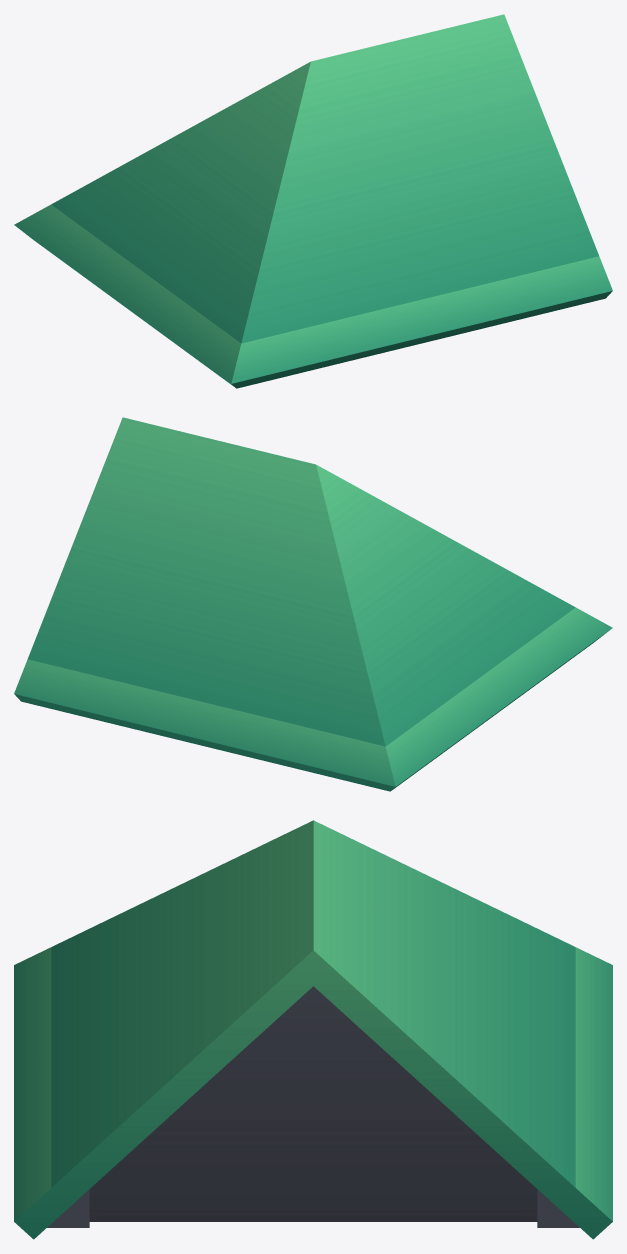
The model's file is roof-gable-end.glb.
3 views of the same model, one above another, from view 1: azimuth 30°, elevation 25°; view 2: azimuth 150°, elevation 25°; view 3: azimuth 270°, elevation 25° (orthographic). The views are drawn at different scales.
Visible parts, largest first — view 1: roof-gable-end; view 2: roof-gable-end; view 3: roof-gable-end.
Boxes of the visible parts, x1,y1,x2,y2 form: roof-gable-end: (14, 14, 612, 388); roof-gable-end: (14, 417, 612, 791); roof-gable-end: (14, 820, 612, 1239).
Bounding box in the file's own units: 1.09 × 0.5707 × 1.07.
1 material, 1 textured.
